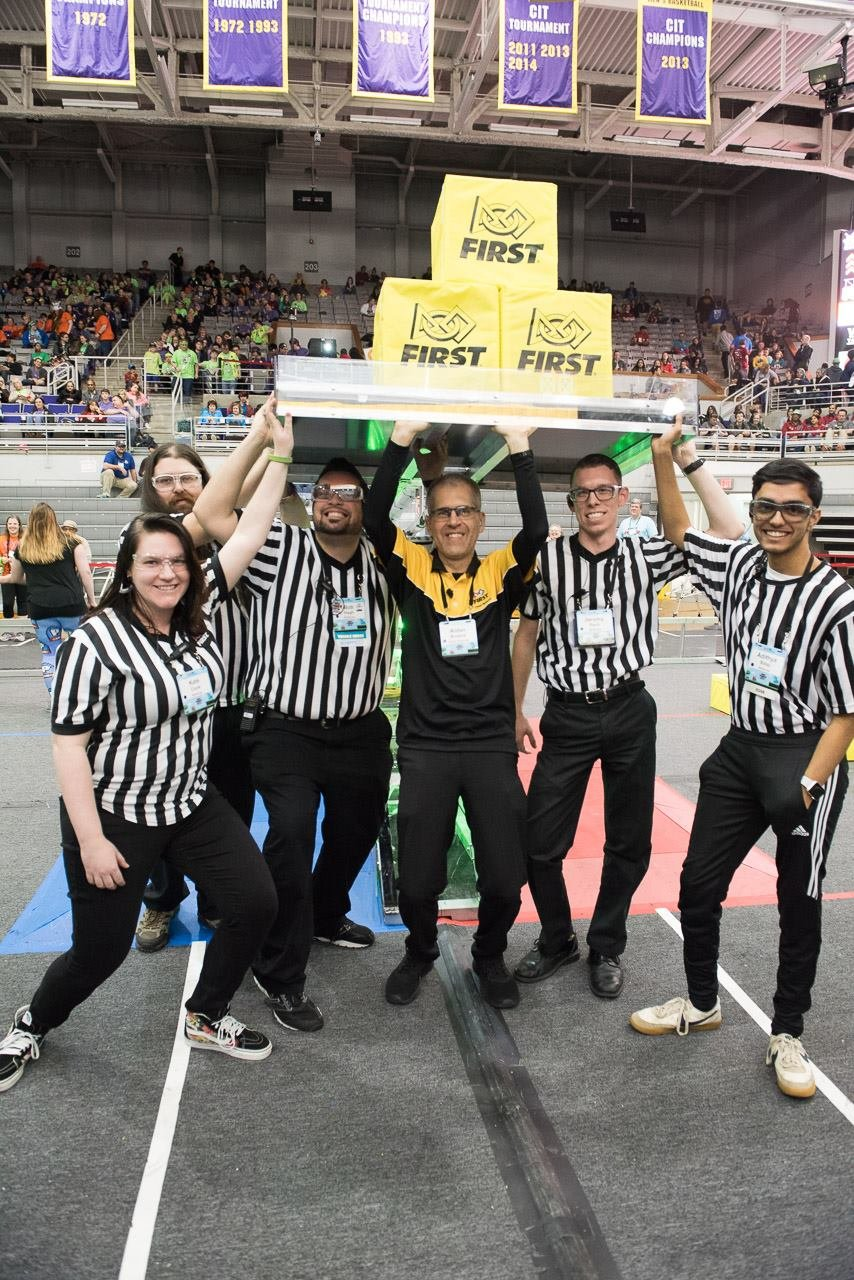ref: (50, 548, 218, 842), (239, 489, 397, 748), (683, 530, 854, 762), (518, 517, 684, 708)
